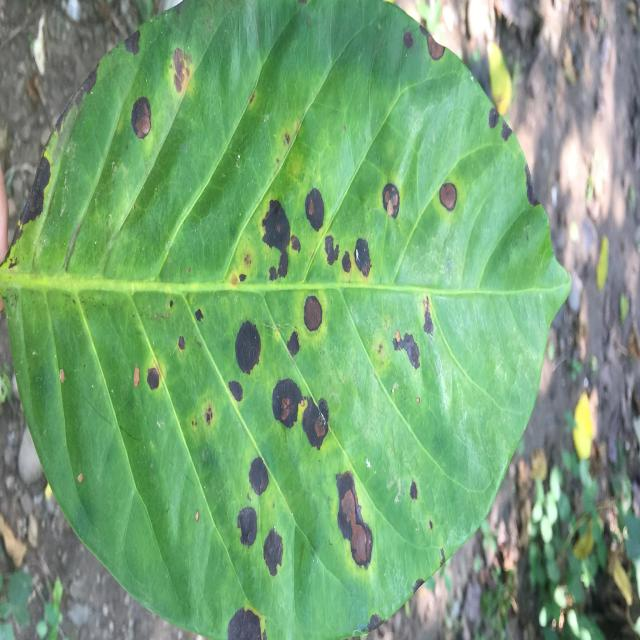Enfermedad-Mancha-de-hierro: (0, 0, 569, 640)
